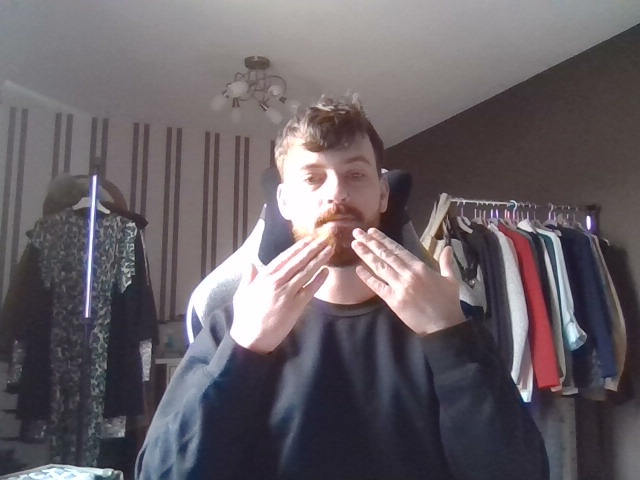Thanks: (226, 215, 482, 352)
